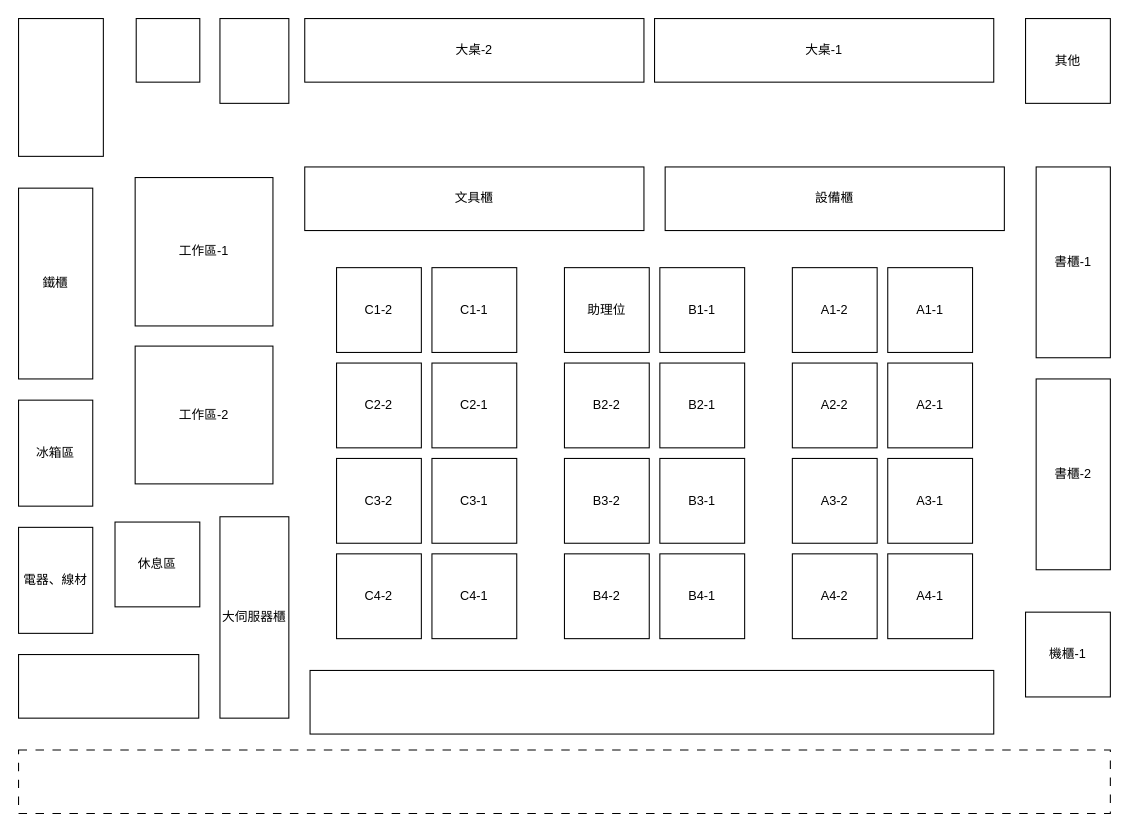
The diagram is 1129 pixels wide and 832 high, and some of its shapes have lost their labels. The shapes that lost their labels are listed below. From the top down, each one's centre as x and y in pixels, then its label:
the point at 167,49: 印表機
the point at 254,60: 小伺服器櫃
the point at 60,86: 報廢櫃
the point at 108,685: 電視區
the point at 651,701: 座位區後方
the point at 563,781: 老師辦公室
